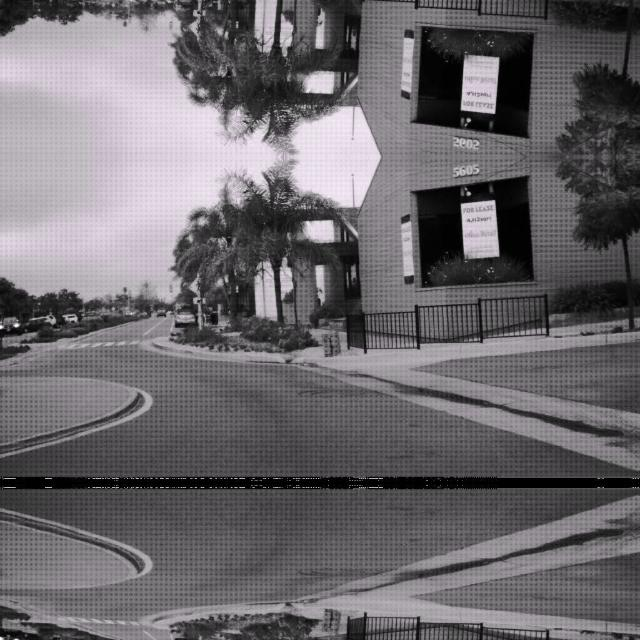pedestrianCrossing: (188, 273, 208, 295), (188, 17, 208, 39)
